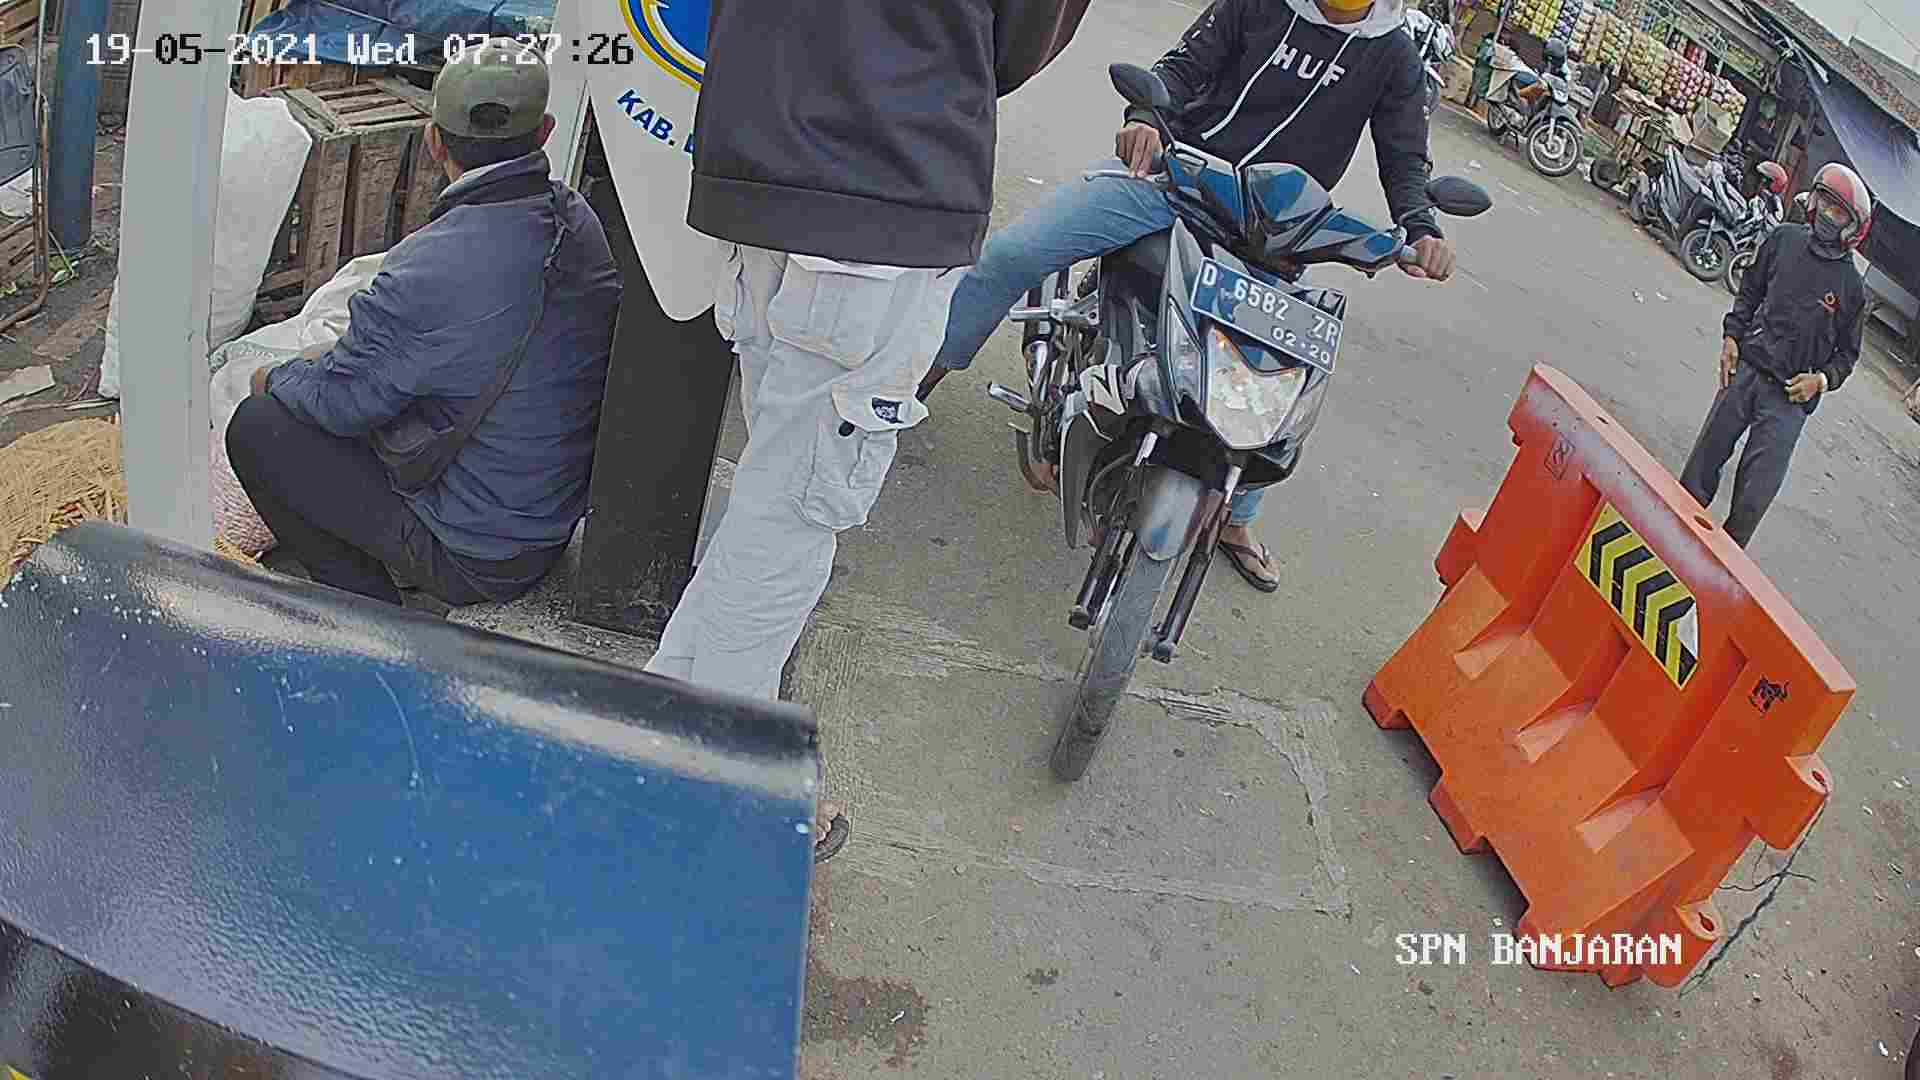motor: (1025, 94, 1422, 818)
